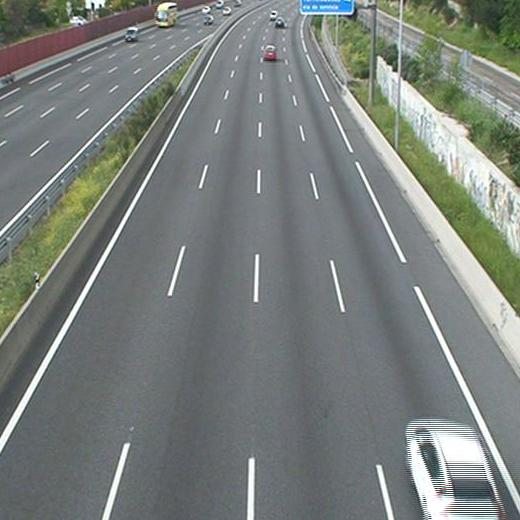car: (405, 421, 503, 520), (263, 45, 276, 59), (274, 18, 284, 27)
